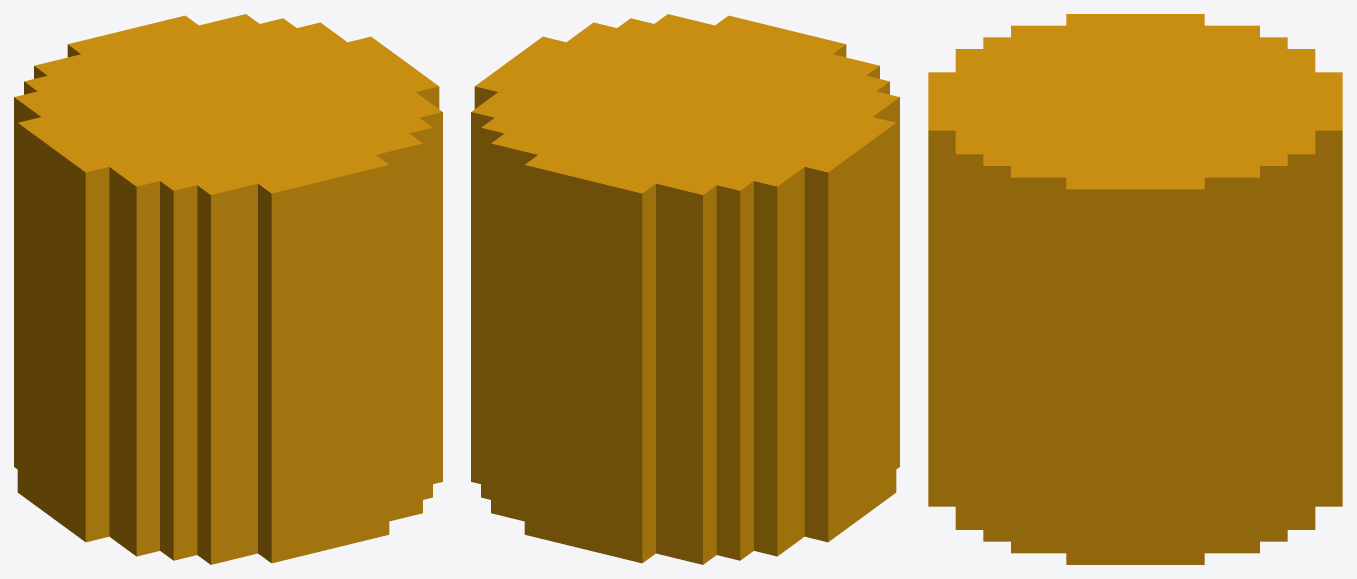
Rendered from beer-1.obj.
3 views of the same model, side by side, from view 1: azimuth 30°, elevation 25°; view 2: azimuth 150°, elevation 25°; view 3: azimuth 270°, elevation 25° (orthographic).
Size of the model in its own units: 1.5 by 1.6 by 1.5.
1 material, 1 textured.
